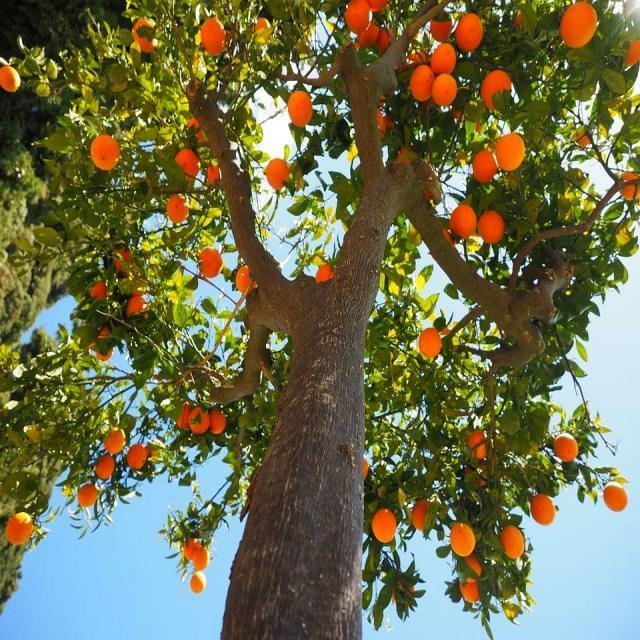Jeruk Sudah Matang: (119, 434, 157, 482), (88, 430, 129, 474), (561, 0, 597, 48), (343, 0, 389, 33), (3, 515, 41, 551), (450, 12, 483, 53), (480, 70, 511, 111), (172, 145, 202, 185), (408, 62, 437, 103), (495, 133, 525, 172), (73, 480, 105, 516), (476, 209, 507, 246), (367, 511, 397, 548), (91, 135, 120, 173), (498, 527, 527, 564), (464, 426, 492, 464), (547, 434, 579, 467), (448, 524, 476, 561), (198, 18, 225, 56), (163, 191, 194, 224), (429, 74, 459, 108), (471, 149, 500, 184), (187, 540, 216, 575), (286, 91, 313, 128), (527, 495, 557, 528), (262, 158, 291, 192), (427, 44, 458, 75), (449, 205, 477, 239), (172, 396, 196, 434), (187, 399, 210, 438), (600, 485, 629, 515), (416, 330, 443, 361), (231, 262, 253, 299), (198, 250, 224, 279), (0, 60, 21, 95), (208, 404, 228, 440), (184, 569, 208, 595), (314, 260, 337, 284)
